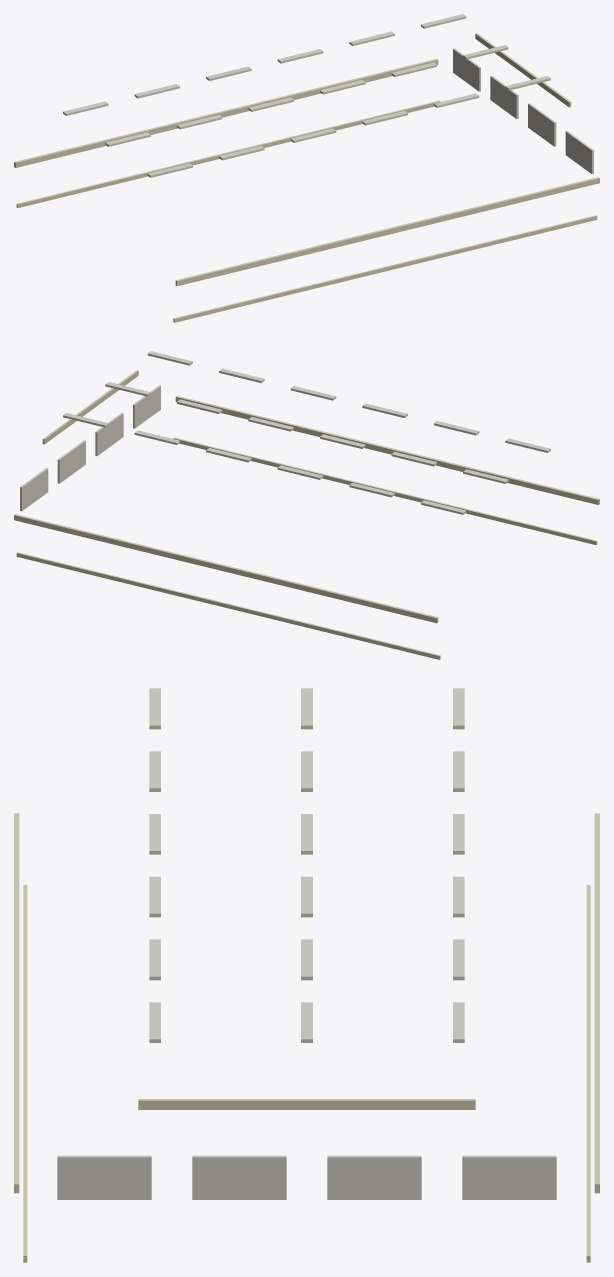
The model's file is mil_hangar_lamps.glb.
3 renders of one model, top to bottom at view 1: azimuth 30°, elevation 25°; view 2: azimuth 150°, elevation 25°; view 3: azimuth 270°, elevation 25°, orthographic. The views are drawn at different scales.
Visible parts, largest first — view 1: mil_hangar_lamps; view 2: mil_hangar_lamps; view 3: mil_hangar_lamps.
Boxes of the visible parts, x1=… form: mil_hangar_lamps: x1=14, y1=14, x2=599, y2=322; mil_hangar_lamps: x1=14, y1=351, x2=599, y2=659; mil_hangar_lamps: x1=14, y1=688, x2=599, y2=1262.
Size of the model in its own units: 26.36 by 6.97 by 17.36.
